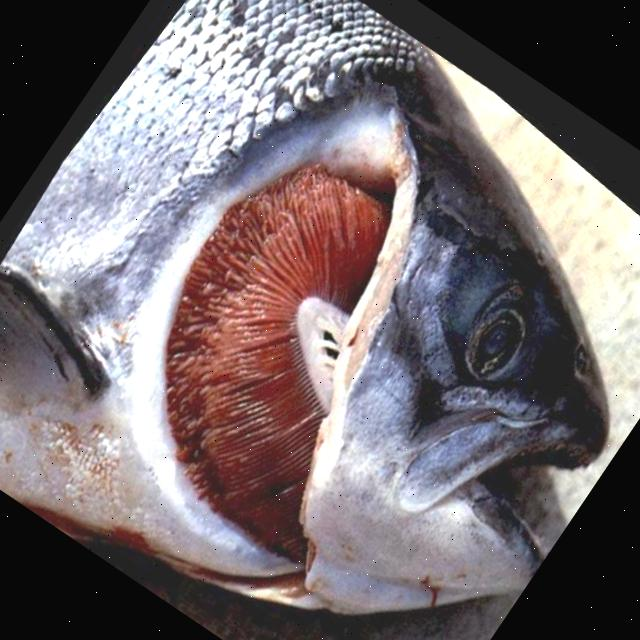Flavobacterium -Bacterial Gill Disease-: (0, 0, 607, 614), (0, 0, 606, 614)
